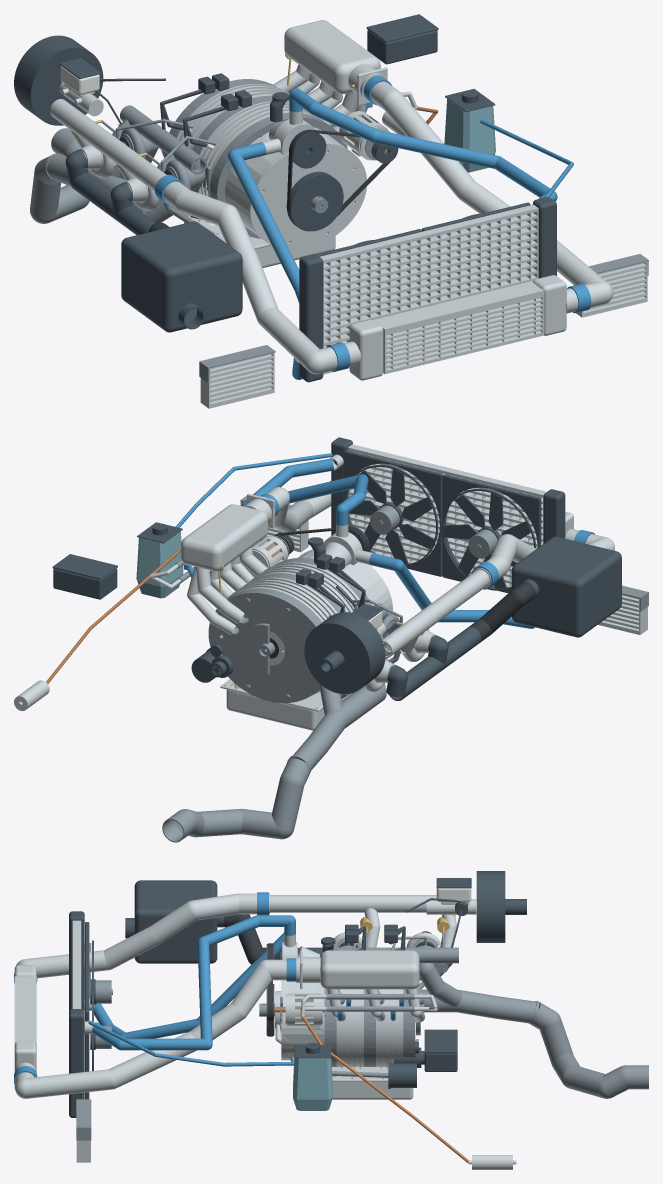
File: engine-bay.glb
3 views of the same model, one above another, from view 1: azimuth 30°, elevation 25°; view 2: azimuth 150°, elevation 25°; view 3: azimuth 270°, elevation 25° (orthographic). The views are drawn at different scales.
Visible parts, largest first — view 1: COL-001, COL-050, COL-020, ENG-FRONT-COVER, COL-022-HOT, COL-022-COLD, COL-007-U, INT-080, ENG-INTAKE-PLENUM, TUR-PARALLEL-CHARGE-COLLECTOR, COL-030-R, EXH-001 (+34 smaller); view 2: COL-050, ENG-HOUSING-REAR, COL-001, INT-080, EXH-001, ENG-INTAKE-PLENUM, COL-005-L, COL-005-R, COL-007-U, TUR-PARALLEL-SUCTION-PIPE, TUR-PARALLEL-CHARGE-COLLECTOR, ENG-OIL-PAN (+29 smaller); view 3: COL-022-COLD, COL-050, COL-022-HOT, ENG-INTAKE-PLENUM, EXH-001, COL-007-U, TUR-PARALLEL-CHARGE-COLLECTOR, INT-080, TUR-COMMON-DOWNPIPE, COL-007-D, COL-008, ENG-OIL-PAN (+30 smaller).
Part boxes in pixels (x1,y1,x2,y2): COL-001: [319, 204, 538, 374]; COL-050: [121, 221, 242, 332]; COL-020: [372, 281, 543, 374]; ENG-FRONT-COVER: [225, 127, 366, 250]; COL-022-HOT: [163, 181, 350, 374]; COL-022-COLD: [360, 73, 613, 311]; COL-007-U: [289, 88, 557, 204]; INT-080: [14, 35, 103, 125]; ENG-INTAKE-PLENUM: [284, 20, 380, 94]; TUR-PARALLEL-CHARGE-COLLECTOR: [50, 99, 166, 191]; COL-030-R: [200, 352, 274, 408]; EXH-001: [30, 128, 89, 223]; COL-050: [511, 536, 621, 637]; ENG-HOUSING-REAR: [208, 588, 322, 703]; COL-001: [348, 444, 546, 587]; INT-080: [304, 612, 385, 694]; EXH-001: [162, 755, 311, 842]; ENG-INTAKE-PLENUM: [181, 504, 267, 571]; COL-005-L: [343, 465, 438, 566]; COL-005-R: [441, 489, 536, 590]; COL-007-U: [241, 458, 368, 525]; TUR-PARALLEL-SUCTION-PIPE: [386, 627, 480, 700]; TUR-PARALLEL-CHARGE-COLLECTOR: [382, 569, 489, 658]; ENG-OIL-PAN: [220, 679, 352, 730]; COL-022-COLD: [15, 957, 299, 1098]; COL-050: [125, 880, 223, 963]; COL-022-HOT: [16, 893, 269, 978]; ENG-INTAKE-PLENUM: [320, 950, 419, 989]; EXH-001: [529, 1001, 648, 1098]; COL-007-U: [92, 915, 295, 1050]; TUR-PARALLEL-CHARGE-COLLECTOR: [270, 895, 456, 947]; INT-080: [476, 871, 526, 942]; TUR-COMMON-DOWNPIPE: [420, 989, 535, 1023]; COL-007-D: [94, 932, 284, 1038]; COL-008: [293, 1052, 332, 1110]; ENG-OIL-PAN: [332, 1067, 413, 1099].
Bounding box in the file's own units: 1.31 × 0.63 × 1.86.
